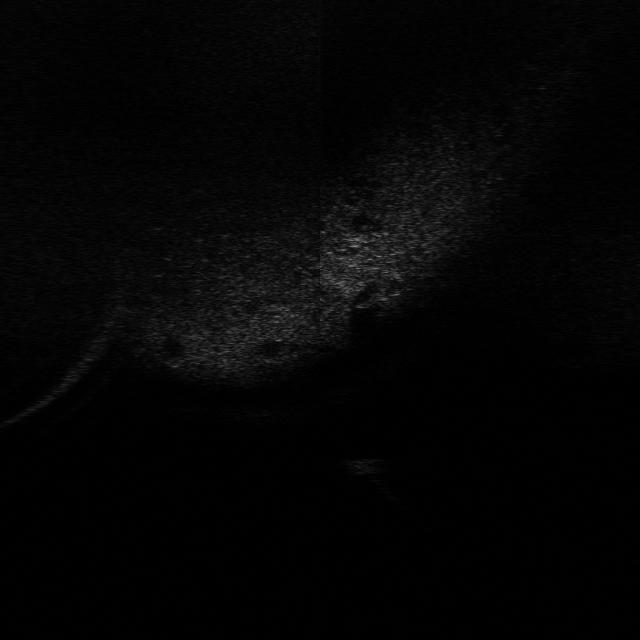cube: (334, 454, 396, 479)
